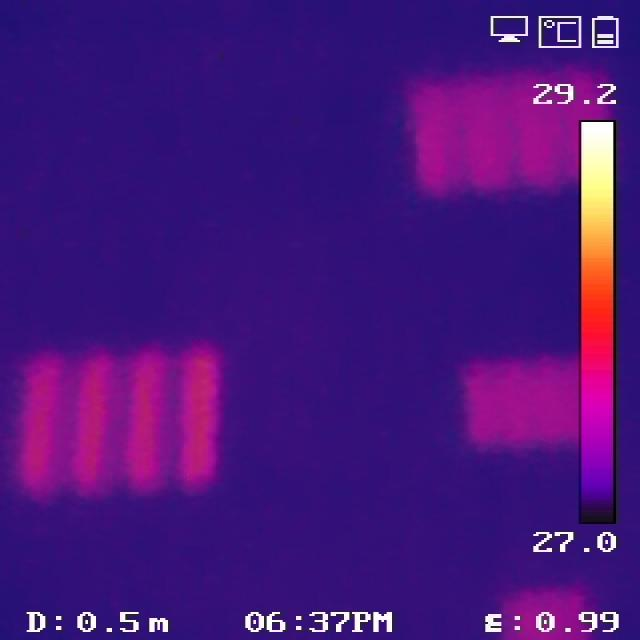Distinguishable 4-bar target: (23, 351, 228, 502)
Indistinguishable 4-bar target: (468, 358, 589, 444), (495, 589, 585, 640)
threshold 4-bar target: (412, 66, 613, 190)
